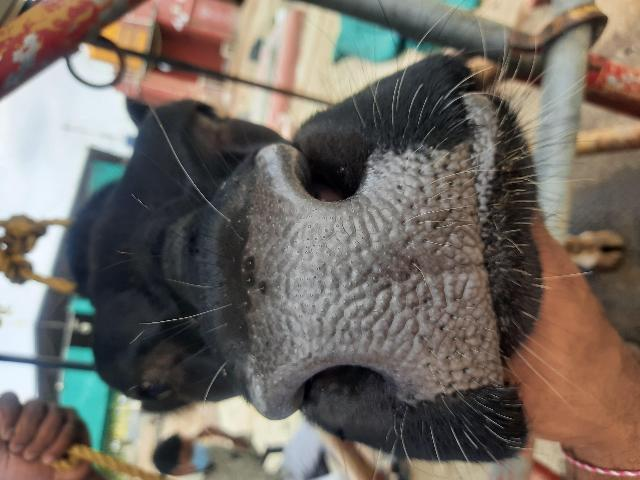Muzzle: (264, 207, 484, 357)
